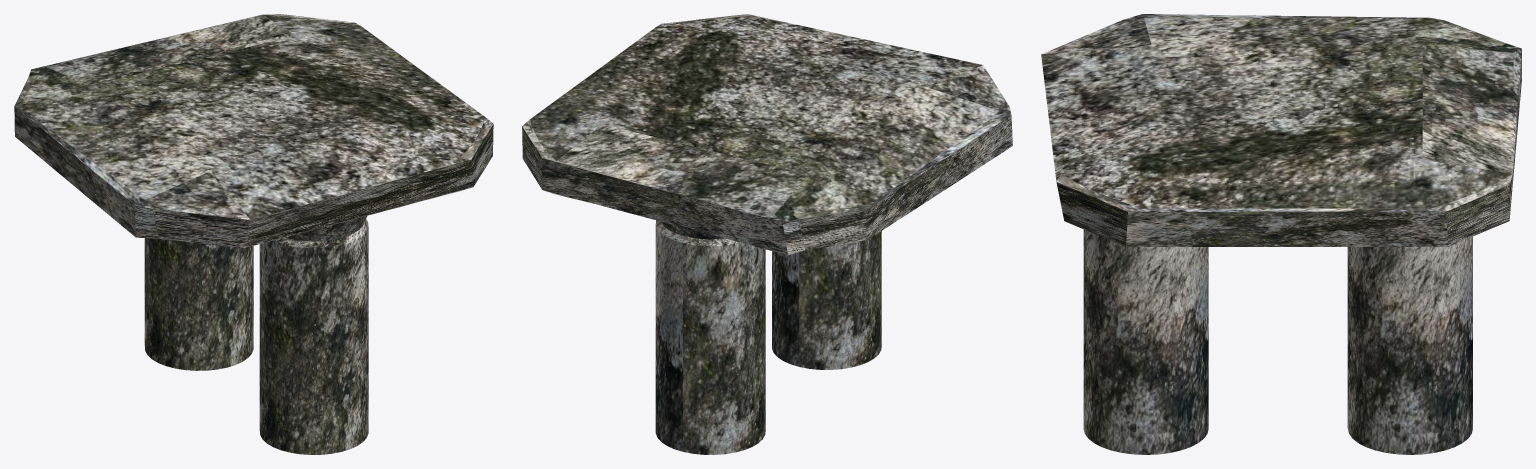
File: wot.fbx
The picture shows the model from 3 angles, left to right: view 1: azimuth 30°, elevation 25°; view 2: azimuth 150°, elevation 25°; view 3: azimuth 270°, elevation 25°; orthographic projection. The views are drawn at different scales.
Visible parts, largest first — view 1: Cube.001, Cylinder.002; view 2: Cube.001, Cylinder.002; view 3: Cube.001, Cylinder.002.
Boxes of the visible parts, <box> form: Cube.001: <box>14,14,493,248</box>; Cylinder.002: <box>144,216,368,454</box>; Cube.001: <box>522,14,1012,254</box>; Cylinder.002: <box>655,220,881,454</box>; Cube.001: <box>1041,14,1521,246</box>; Cylinder.002: <box>1083,229,1472,454</box>.
Size of the model in its own units: 1686 by 1295 by 1731.
